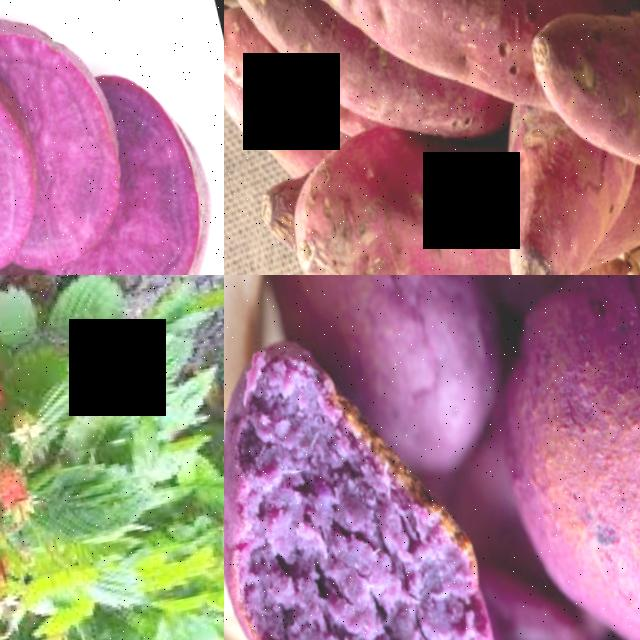sweet potato: (224, 319, 505, 640), (461, 275, 640, 640), (0, 8, 141, 268), (273, 133, 509, 275), (93, 65, 224, 275), (523, 0, 640, 180), (288, 0, 531, 84), (476, 124, 610, 275)
